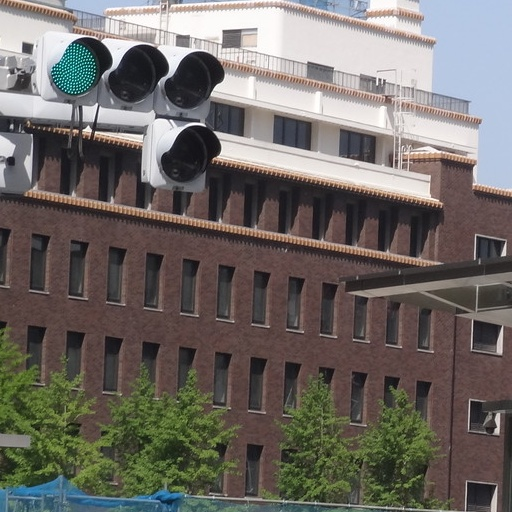Traffic_Signal_Blue: (40, 32, 221, 115)
